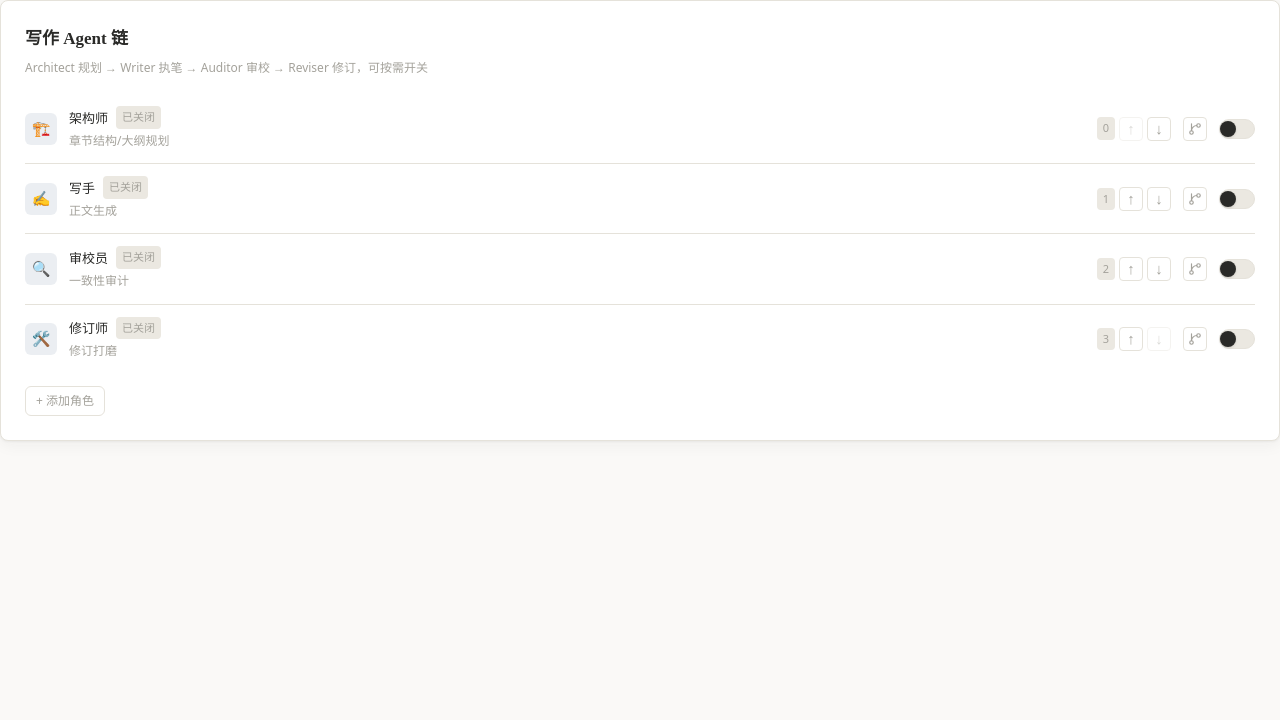
AgentChainCard — v1.5 #484 添加角色 + 角色池（spec §5.7.2/§5.7.3） › 添加世界观顾问 → 行出现 + agent_worldview=sentinel + agent_order 显式化（末尾层）
Check: the text "架构师" is shown, box [69,107,108,129]
Click the button with test id "agent-chain-add-role": (65, 401) [25,386,105,416]
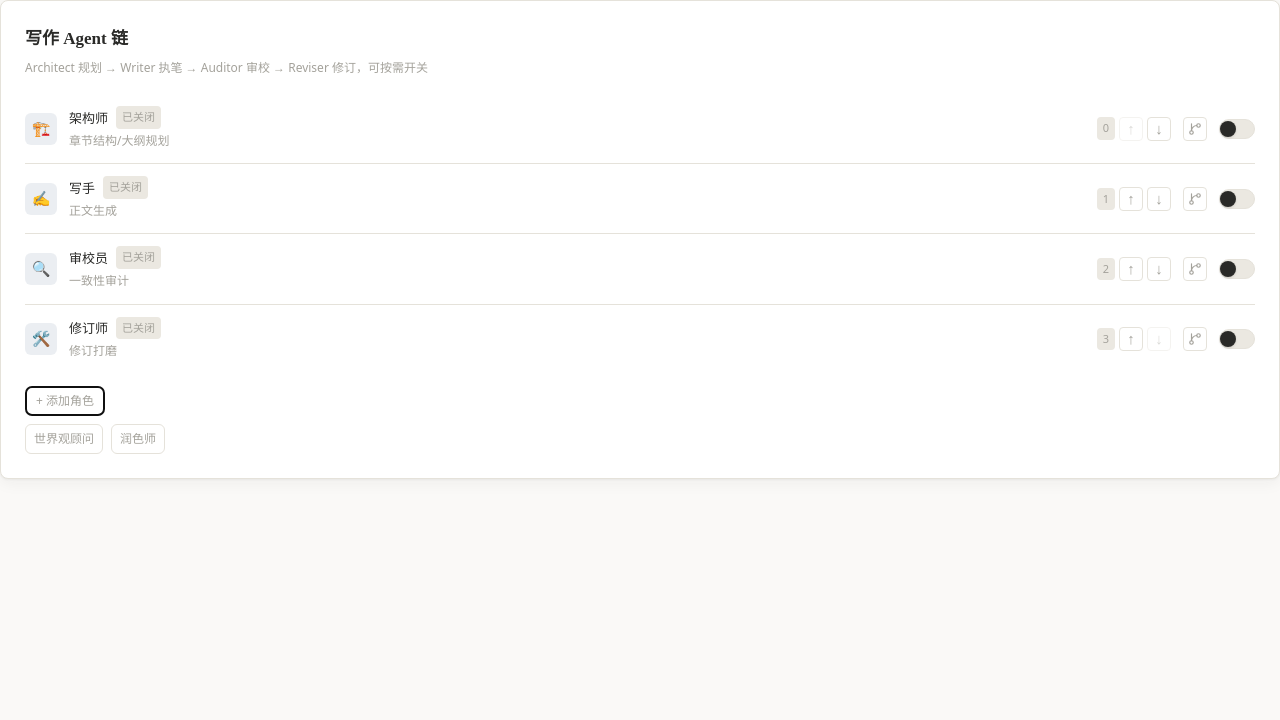
Click the button with test id "agent-chain-role-option-agent_worldview": (64, 439) [25,424,103,454]
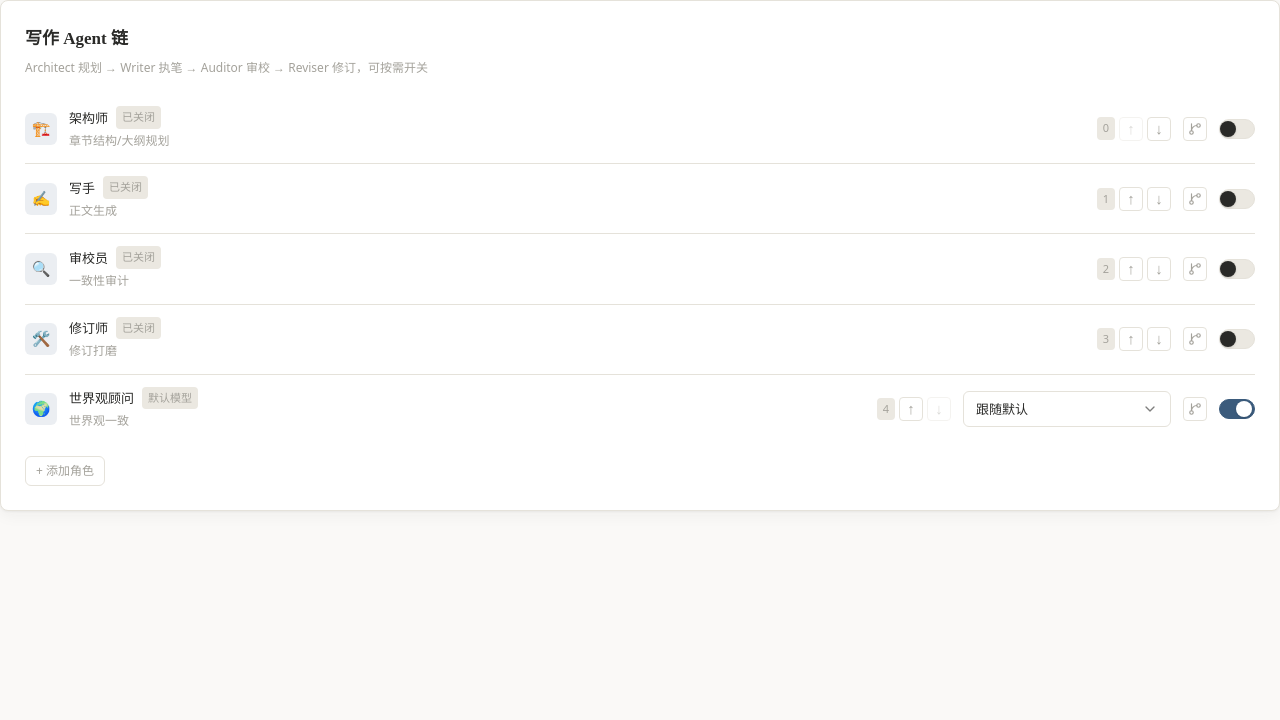
Check: the text "世界观顾问" is shown, box [69,387,134,409]
Check: the number of switches is 5, box [1219,119,1255,139]; [1219,189,1255,209]; [1219,259,1255,279]; [1219,329,1255,349]; [1219,399,1255,419]
